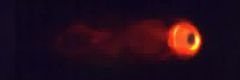keyhole: (187, 31, 196, 48)
